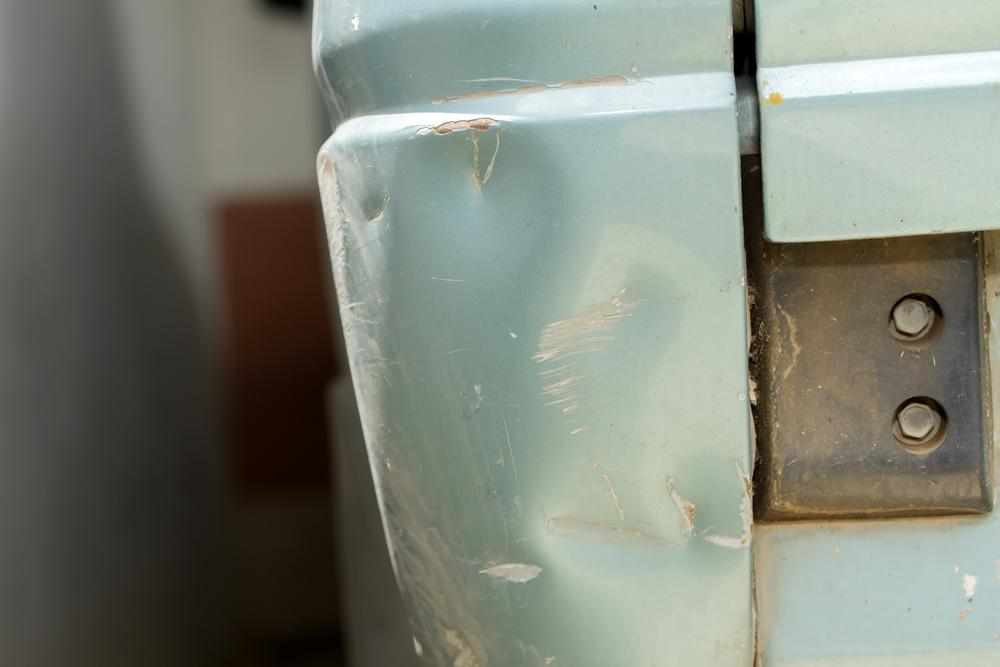dent: (366, 124, 739, 622)
